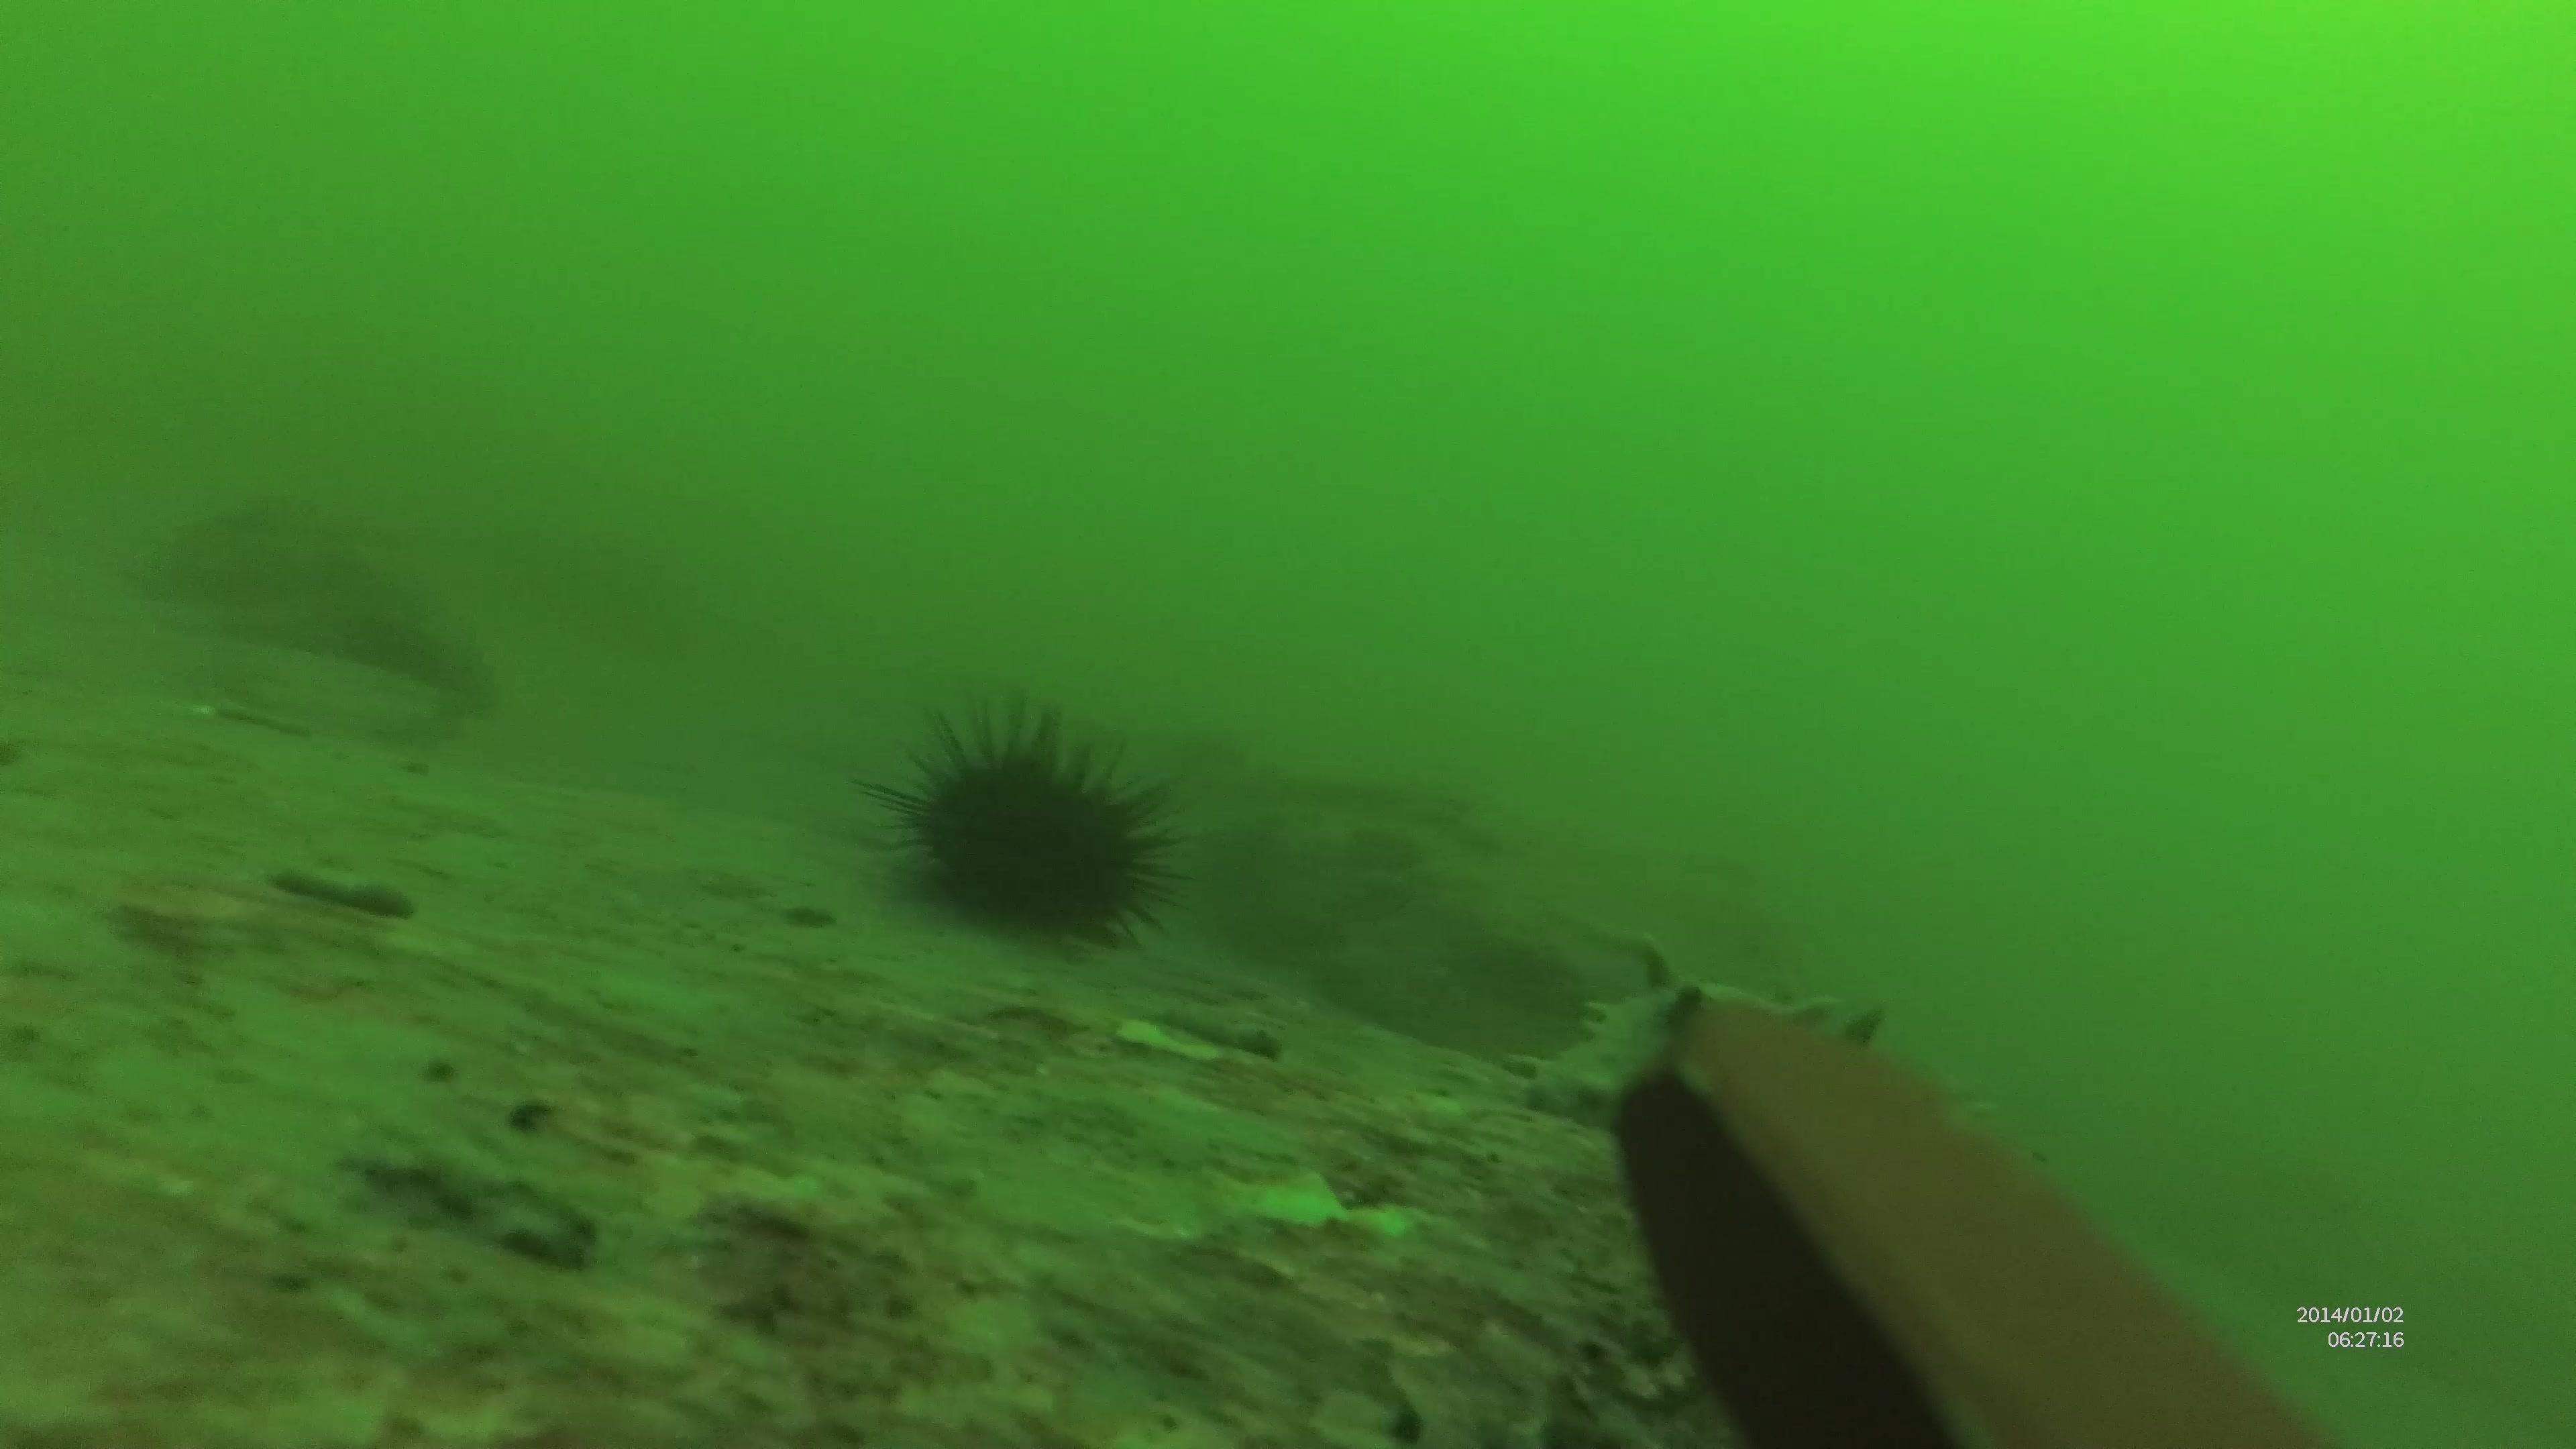echinus: (860, 679, 1198, 957)
holothurian: (1509, 939, 1893, 1123)
